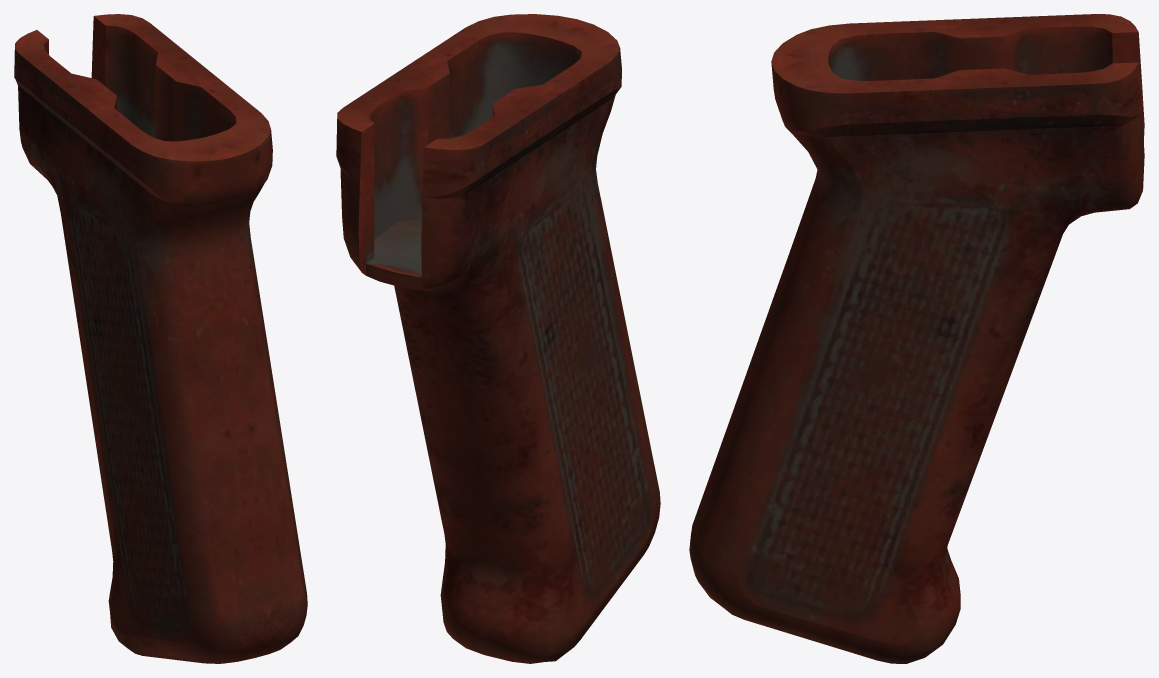
File: punho_akmn.glb
3 renders of one model, left to right at view 1: azimuth 30°, elevation 25°; view 2: azimuth 150°, elevation 25°; view 3: azimuth 270°, elevation 25°, orthographic. The views are drawn at different scales.
Visible parts, largest first — view 1: punho_akmn_punho; view 2: punho_akmn_punho; view 3: punho_akmn_punho.
Boxes of the visible parts, x1,y1,x2,y2 form: punho_akmn_punho: (14,14,307,663); punho_akmn_punho: (336,14,660,663); punho_akmn_punho: (689,14,1144,663).
Size of the model in its own units: 0.0264 by 0.1055 by 0.0727.
1 material, 1 textured.
